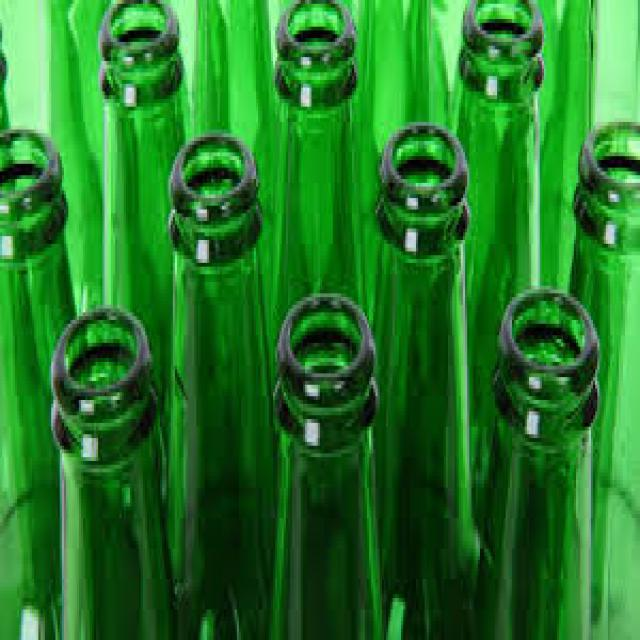glass: (165, 126, 278, 636), (371, 114, 472, 636), (98, 0, 188, 583), (463, 282, 597, 636), (452, 0, 542, 522), (262, 290, 380, 636), (0, 126, 77, 636), (47, 301, 164, 636), (567, 114, 638, 636), (273, 0, 367, 339)
